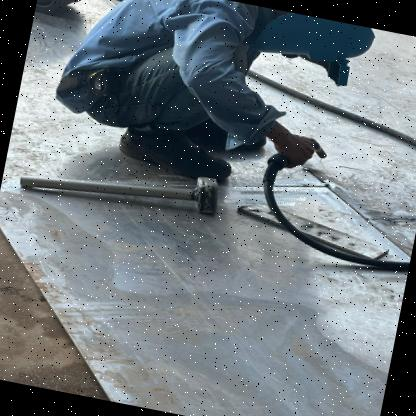bota: (118, 109, 245, 188)
